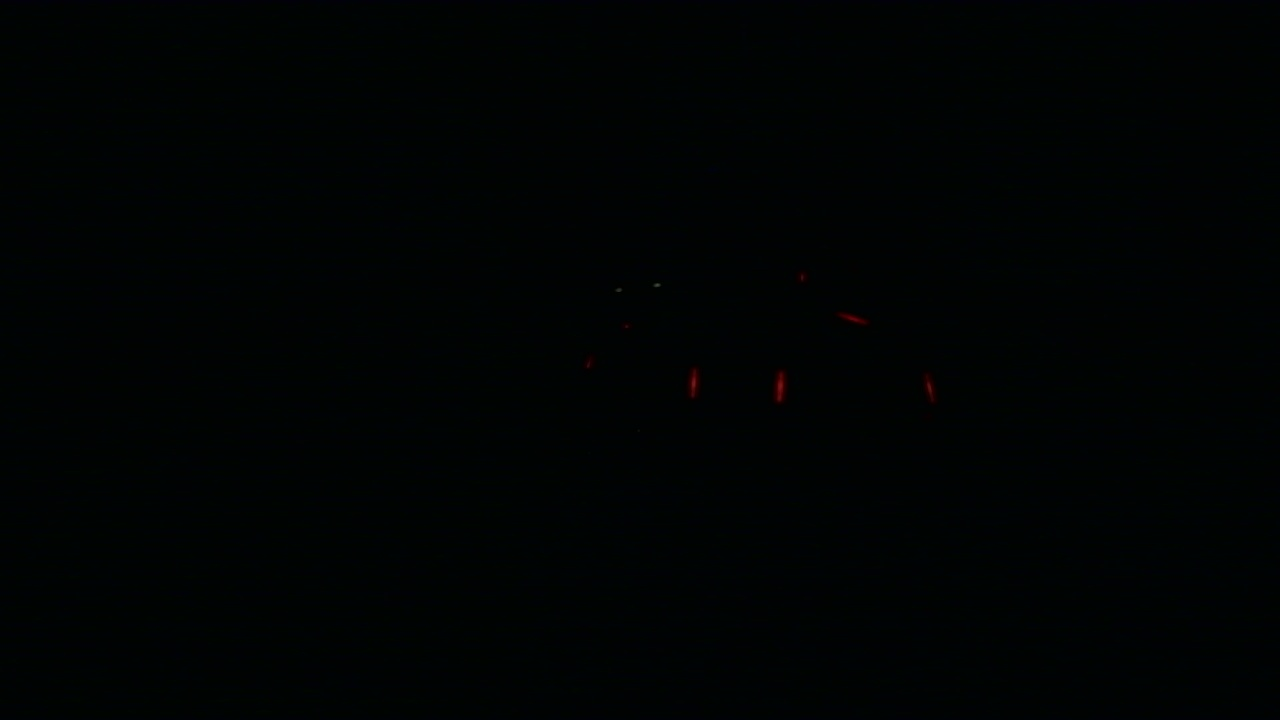lamp: (686, 364, 699, 407), (774, 362, 785, 406), (927, 364, 938, 405)
notpair1: (774, 364, 940, 408)
pair1: (688, 368, 784, 404)
